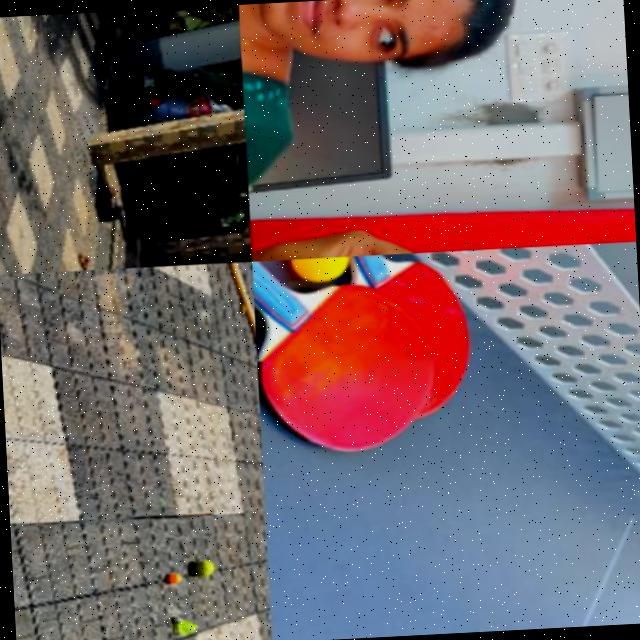ping-pong-ball: (294, 256, 352, 286), (166, 573, 184, 584)
